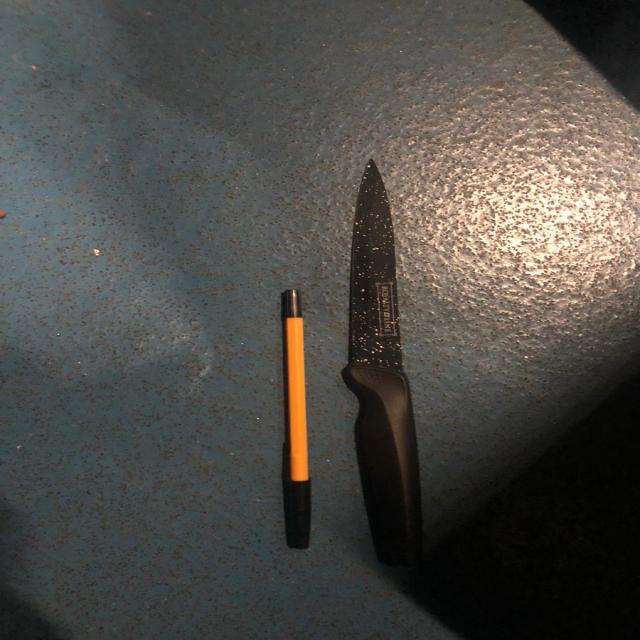Sharp-Object: (347, 158, 429, 566)
